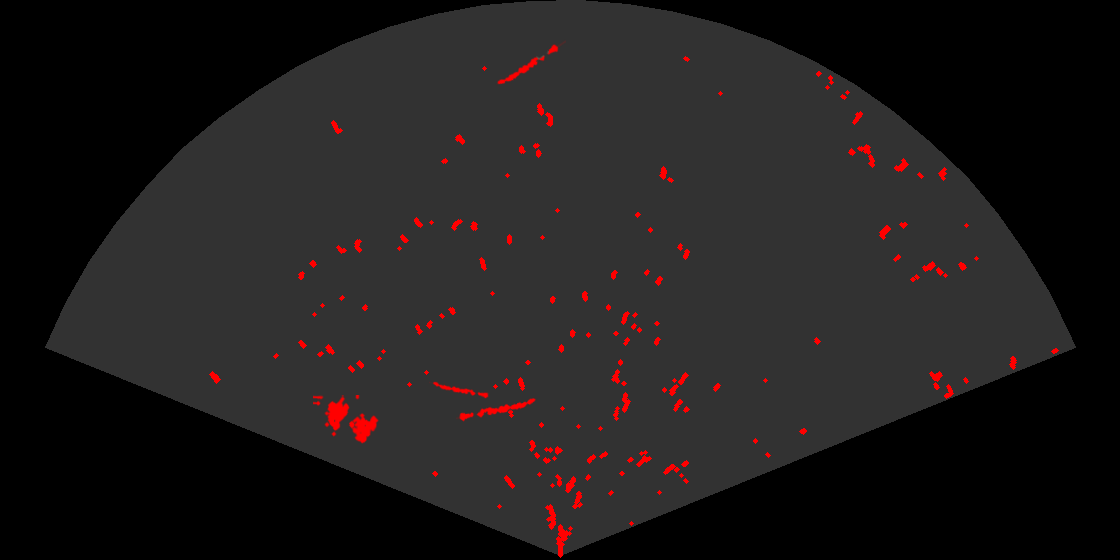cage: (313, 395, 380, 445)
chain: (495, 39, 566, 86), (456, 397, 538, 423), (429, 380, 489, 400)
